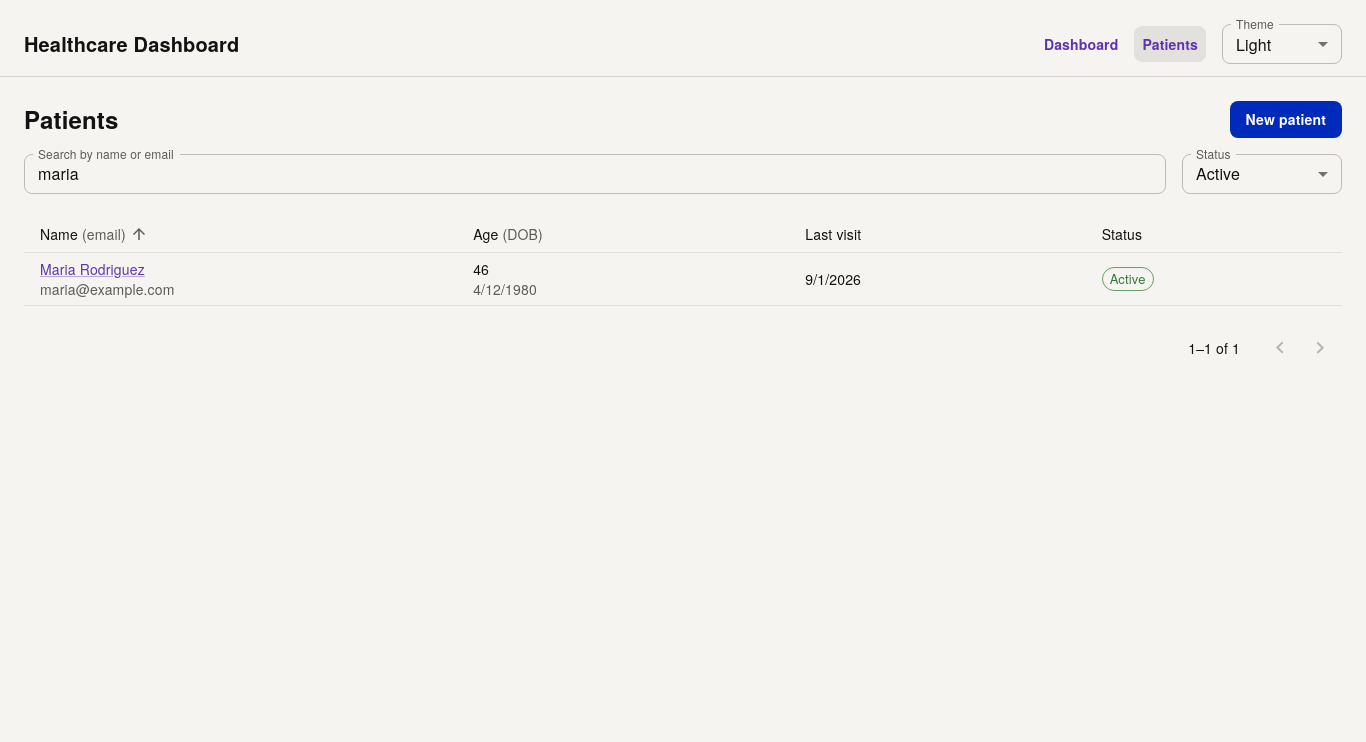
it: Patients page › returns to the same results from a patient
Click the text "maria@example.com".
click(107, 289)  # box top-left (40, 279), bottom-right (174, 299)
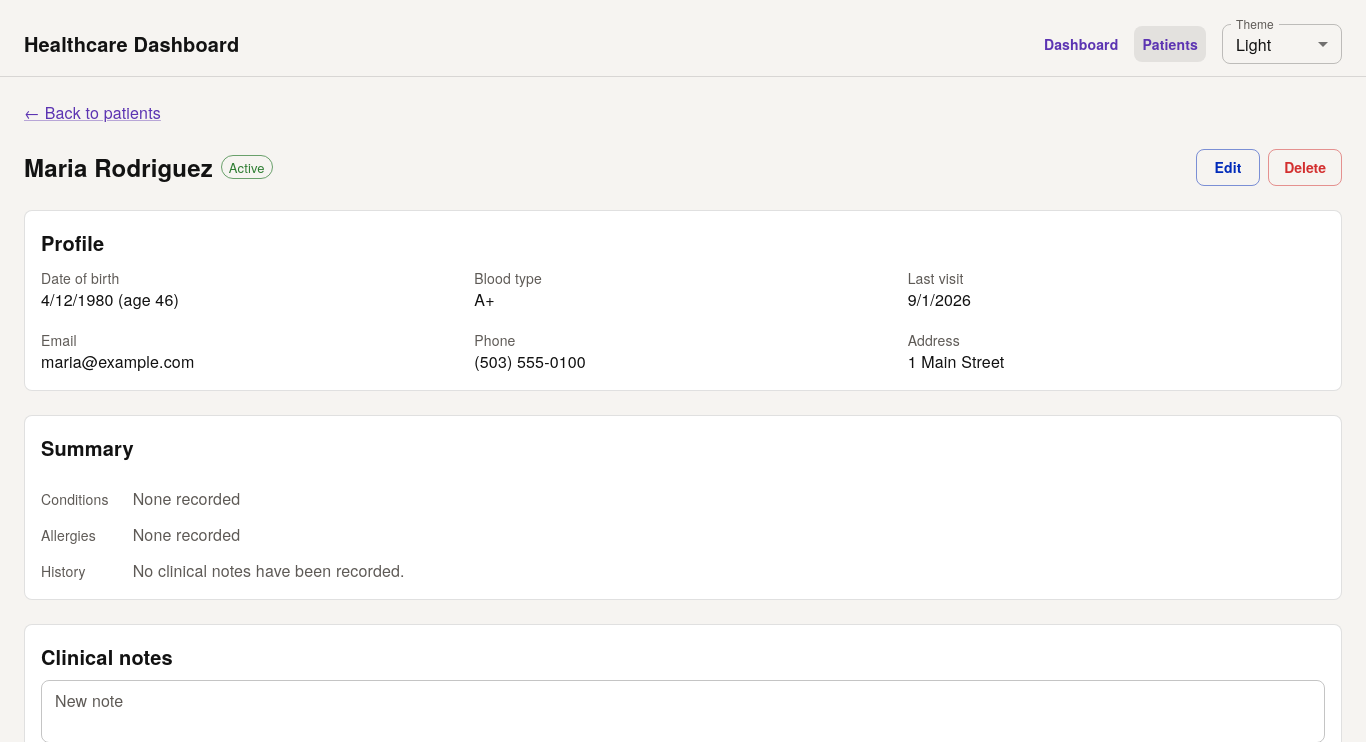
Click the link "← Back to patients".
click(92, 113)  # box top-left (24, 101), bottom-right (161, 125)
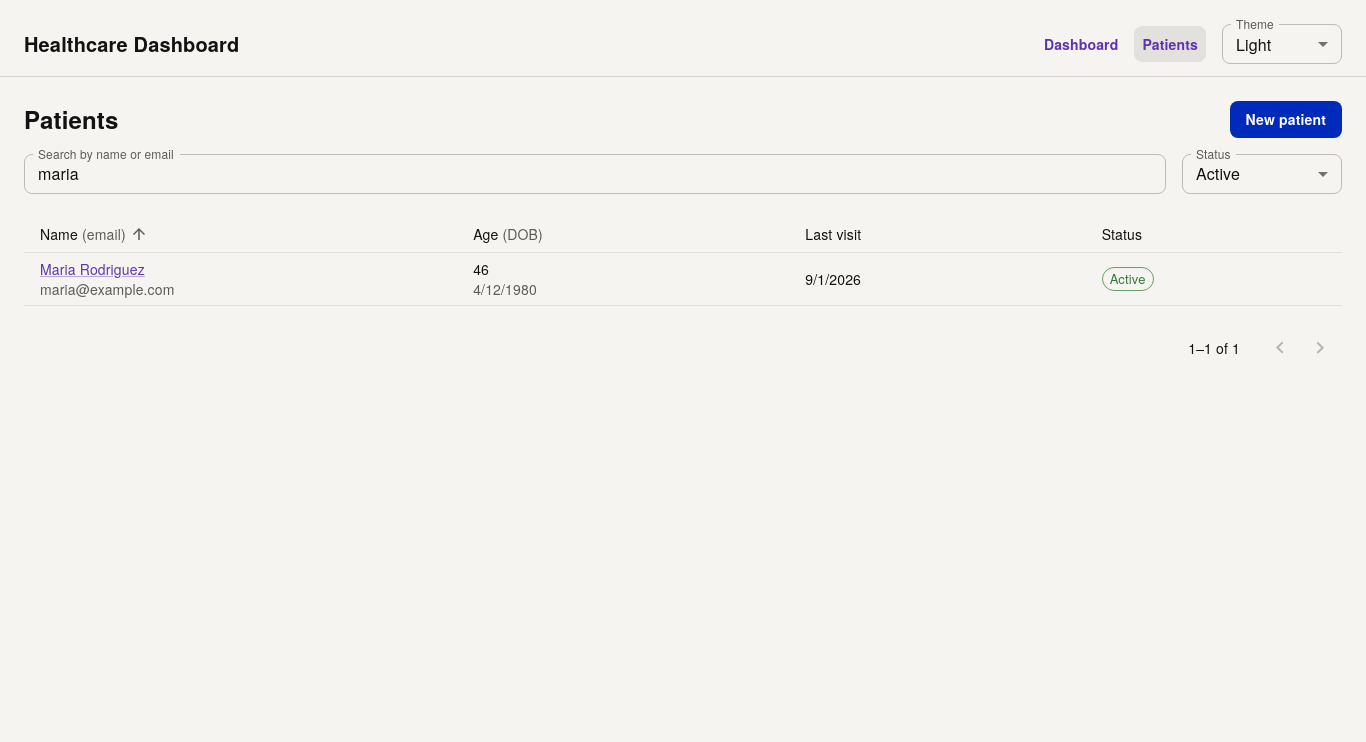
expect the field labelled "Search by name or email" holds "maria": met, box top-left (24, 154), bottom-right (1166, 194)
expect the dropdown named "Status" reads "Active": met, box top-left (1196, 162), bottom-right (1240, 185)
